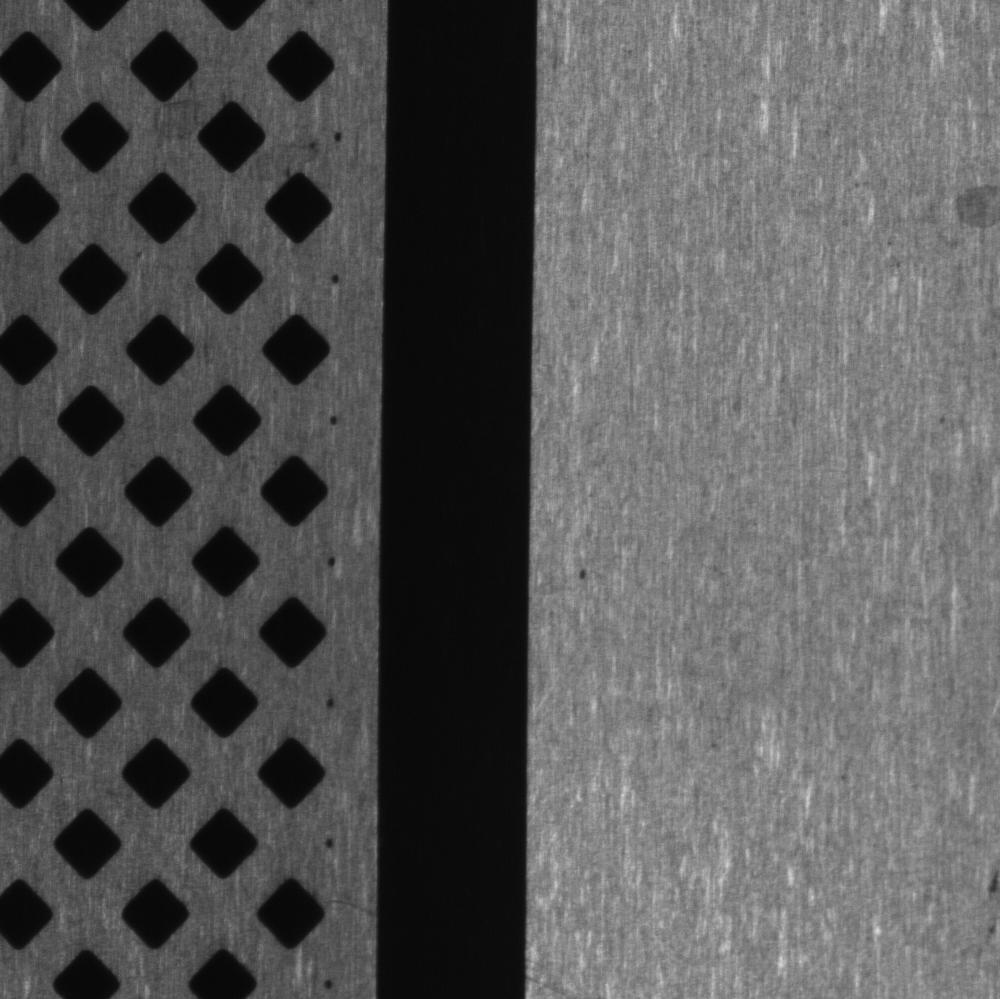Discolor: (239, 136, 321, 194), (145, 95, 211, 157), (950, 175, 1000, 233)
Etching: (565, 557, 598, 590)
